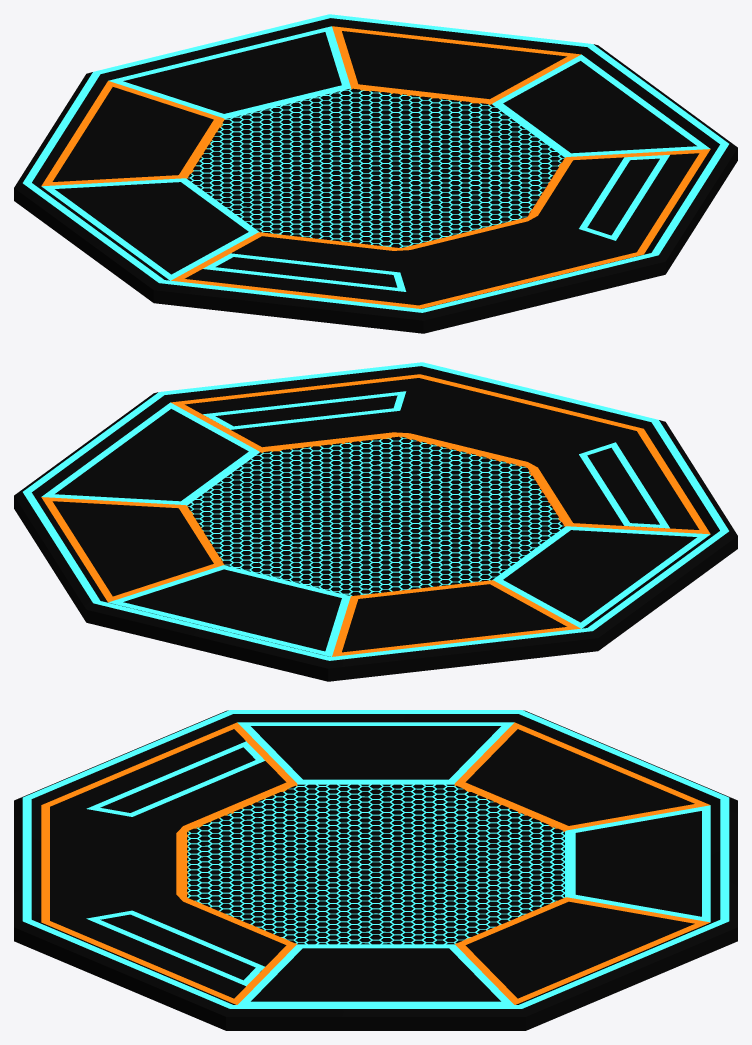
File: Base_Platform.fbx
3 renders of one model, top to bottom at view 1: azimuth 30°, elevation 25°; view 2: azimuth 150°, elevation 25°; view 3: azimuth 270°, elevation 25°, orthographic. The views are drawn at different scales.
Visible parts, largest first — view 1: Base_Platform, Teleport_platform_01, Teleport_platform_02; view 2: Base_Platform, Teleport_platform_02, Teleport_platform_01; view 3: Base_Platform, Teleport_platform_01, Teleport_platform_02.
Boxes of the visible parts, x1,y1,x2,y2 form: Base_Platform: [14, 14, 737, 333]; Teleport_platform_01: [203, 253, 406, 291]; Teleport_platform_02: [579, 155, 669, 240]; Base_Platform: [14, 362, 737, 681]; Teleport_platform_02: [203, 391, 406, 429]; Teleport_platform_01: [579, 442, 669, 528]; Base_Platform: [14, 710, 737, 1030]; Teleport_platform_01: [86, 741, 264, 816]; Teleport_platform_02: [86, 910, 264, 985].
Size of the model in its own units: 14723 by 414 by 14723.
